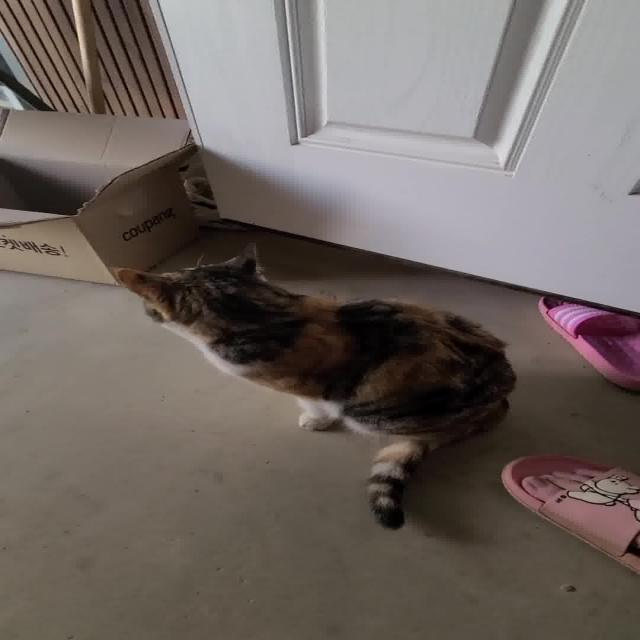cat: (91, 239, 525, 534)
